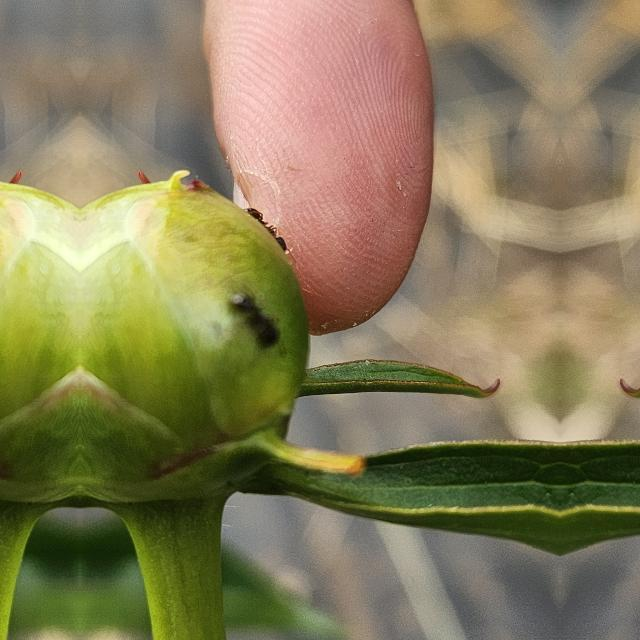Tetramorium: (225, 286, 291, 354)
